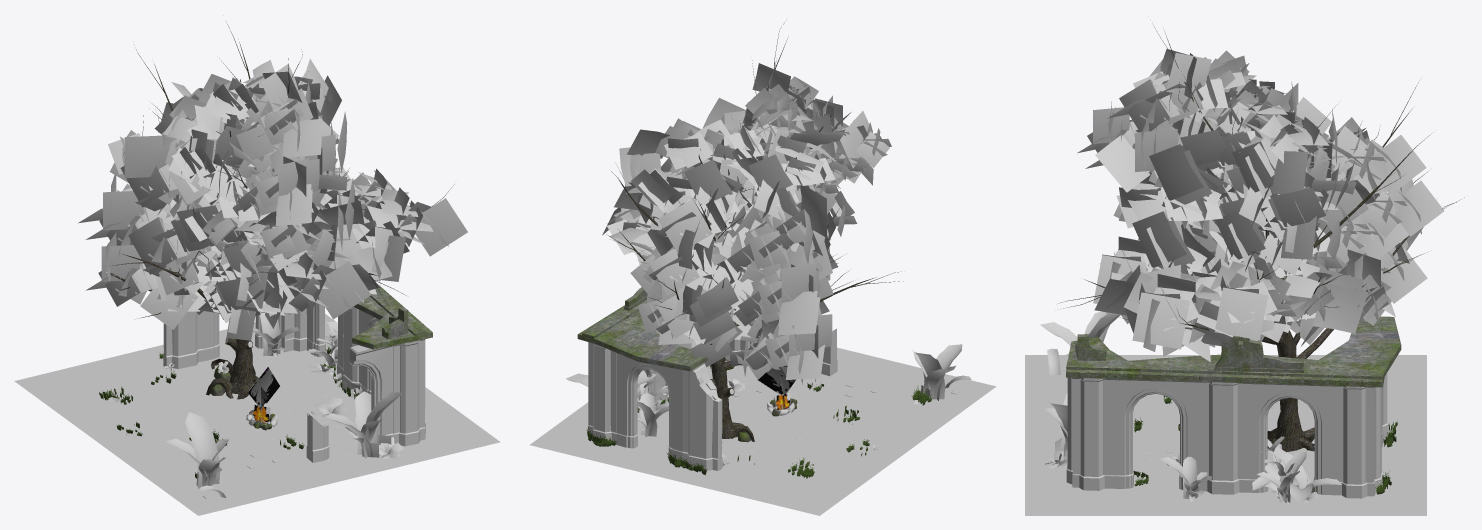
The model's file is wall and tree updated.fbx.
3 renders of one model, left to right at view 1: azimuth 30°, elevation 25°; view 2: azimuth 150°, elevation 25°; view 3: azimuth 270°, elevation 25°, orthographic. The views are drawn at different scales.
Parts seen in each view (by area): view 1: pPlane87, pPlane319 (×13), pPlane320 (×10), Wall_and_tree_brief__updated_:polySurface14, pCube43, Wall_and_tree_brief__updated_:polySurface16, Wall_and_tree_brief__updated_:pCube28, polySurface12, pPlane323 (×2), pPlane33, Wall_and_tree_brief__updated_:pCube18, polySurface165 (+10 smaller); view 2: pPlane87, pPlane320 (×8), pPlane319 (×5), pCube43, Wall_and_tree_brief__updated_:pCube28, polySurface165, Wall_and_tree_brief__updated_:polySurface15, pPlane327 (×3), pPlane323 (×2), pPlane332, polySurface2, pPlane333 (+4 smaller); view 3: pPlane87, pPlane319 (×14), pPlane320 (×10), pCube43, pPlane327 (×6), polySurface12, Wall_and_tree_brief__updated_:polySurface15, Wall_and_tree_brief__updated_:polySurface12, Wall_and_tree_brief__updated_:polySurface14, Wall_and_tree_brief__updated_:pCube18, pCube44, polySurface2 (+7 smaller).
Part boxes in pixels (left/top/right/bottom): pPlane87: left=14, top=314, right=500, bottom=515; pPlane319 (×13): left=101, top=118, right=467, bottom=340; pPlane320 (×10): left=98, top=64, right=405, bottom=329; Wall_and_tree_brief__updated_:polySurface14: left=393, top=339, right=425, bottom=446; pCube43: left=352, top=283, right=432, bottom=349; Wall_and_tree_brief__updated_:polySurface16: left=349, top=345, right=393, bottom=437; Wall_and_tree_brief__updated_:pCube28: left=163, top=311, right=203, bottom=368; polySurface12: left=307, top=297, right=343, bottom=379; pPlane323 (×2): left=257, top=108, right=294, bottom=256; pPlane33: left=185, top=412, right=219, bottom=488; Wall_and_tree_brief__updated_:pCube18: left=343, top=306, right=361, bottom=390; polySurface165: left=203, top=311, right=263, bottom=361; pPlane87: left=529, top=340, right=996, bottom=515; pPlane320 (×8): left=649, top=63, right=816, bottom=338; pPlane319 (×5): left=625, top=129, right=826, bottom=379; pCube43: left=577, top=300, right=708, bottom=371; Wall_and_tree_brief__updated_:pCube28: left=682, top=363, right=722, bottom=470; polySurface165: left=616, top=353, right=682, bottom=460; Wall_and_tree_brief__updated_:polySurface15: left=588, top=342, right=616, bottom=444; pPlane327 (×3): left=631, top=111, right=871, bottom=351; pPlane323 (×2): left=748, top=131, right=889, bottom=269; pPlane332: left=696, top=277, right=738, bottom=319; polySurface2: left=711, top=357, right=734, bottom=438; pPlane333: left=693, top=311, right=735, bottom=344; pPlane87: left=1025, top=355, right=1426, bottom=515; pPlane319 (×14): left=1093, top=52, right=1444, bottom=315; pPlane320 (×10): left=1093, top=79, right=1380, bottom=349; pCube43: left=1066, top=316, right=1401, bottom=387; pPlane327 (×6): left=1132, top=132, right=1325, bottom=267; polySurface12: left=1245, top=383, right=1335, bottom=495; Wall_and_tree_brief__updated_:polySurface15: left=1335, top=386, right=1382, bottom=498; Wall_and_tree_brief__updated_:polySurface12: left=1111, top=379, right=1200, bottom=489; Wall_and_tree_brief__updated_:polySurface14: left=1066, top=377, right=1111, bottom=490; Wall_and_tree_brief__updated_:pCube18: left=1201, top=381, right=1245, bottom=494; pCube44: left=1213, top=335, right=1304, bottom=372; polySurface2: left=1275, top=330, right=1304, bottom=452.
Bounding box in the file's own units: 6.95 × 8.7 × 7.37.
